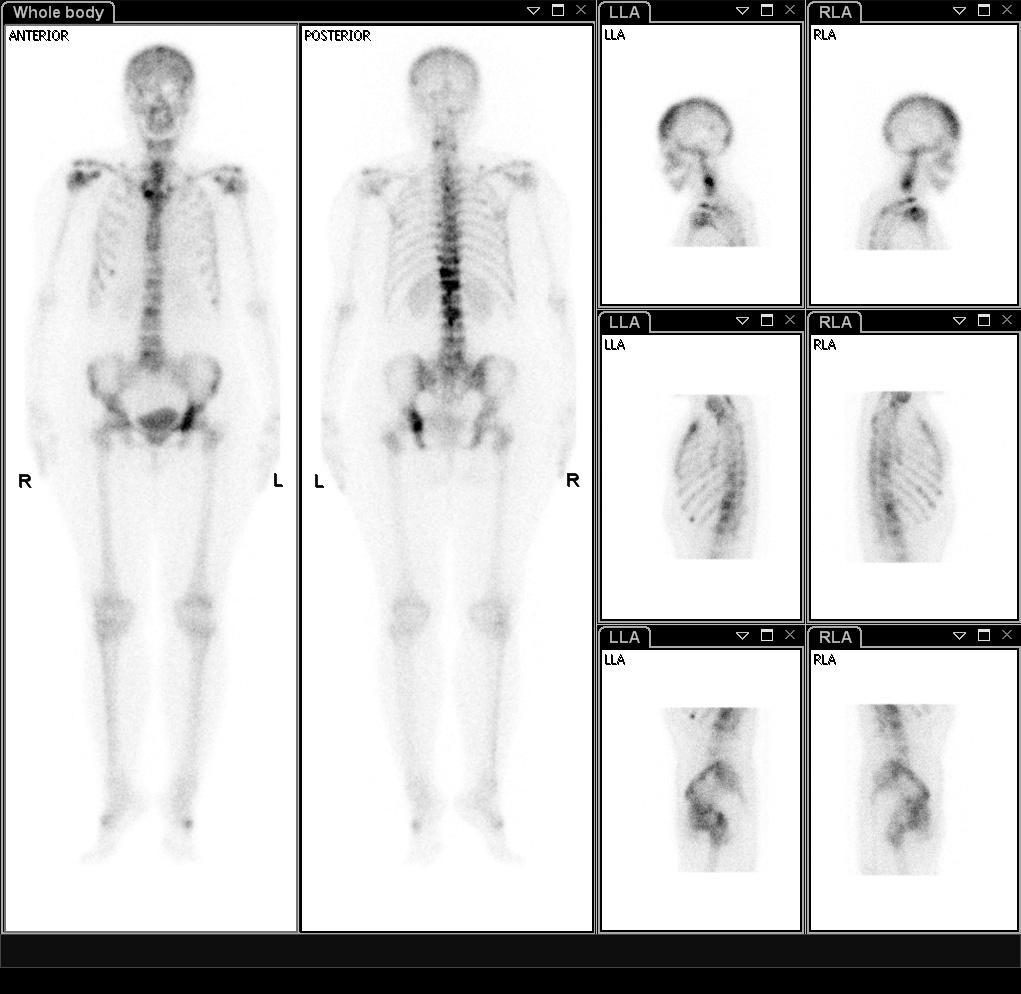person: (4, 22, 595, 933)
